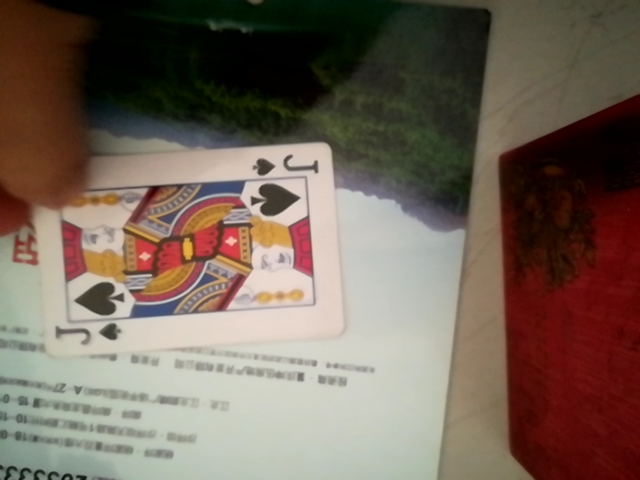ht j: (28, 140, 342, 356)
